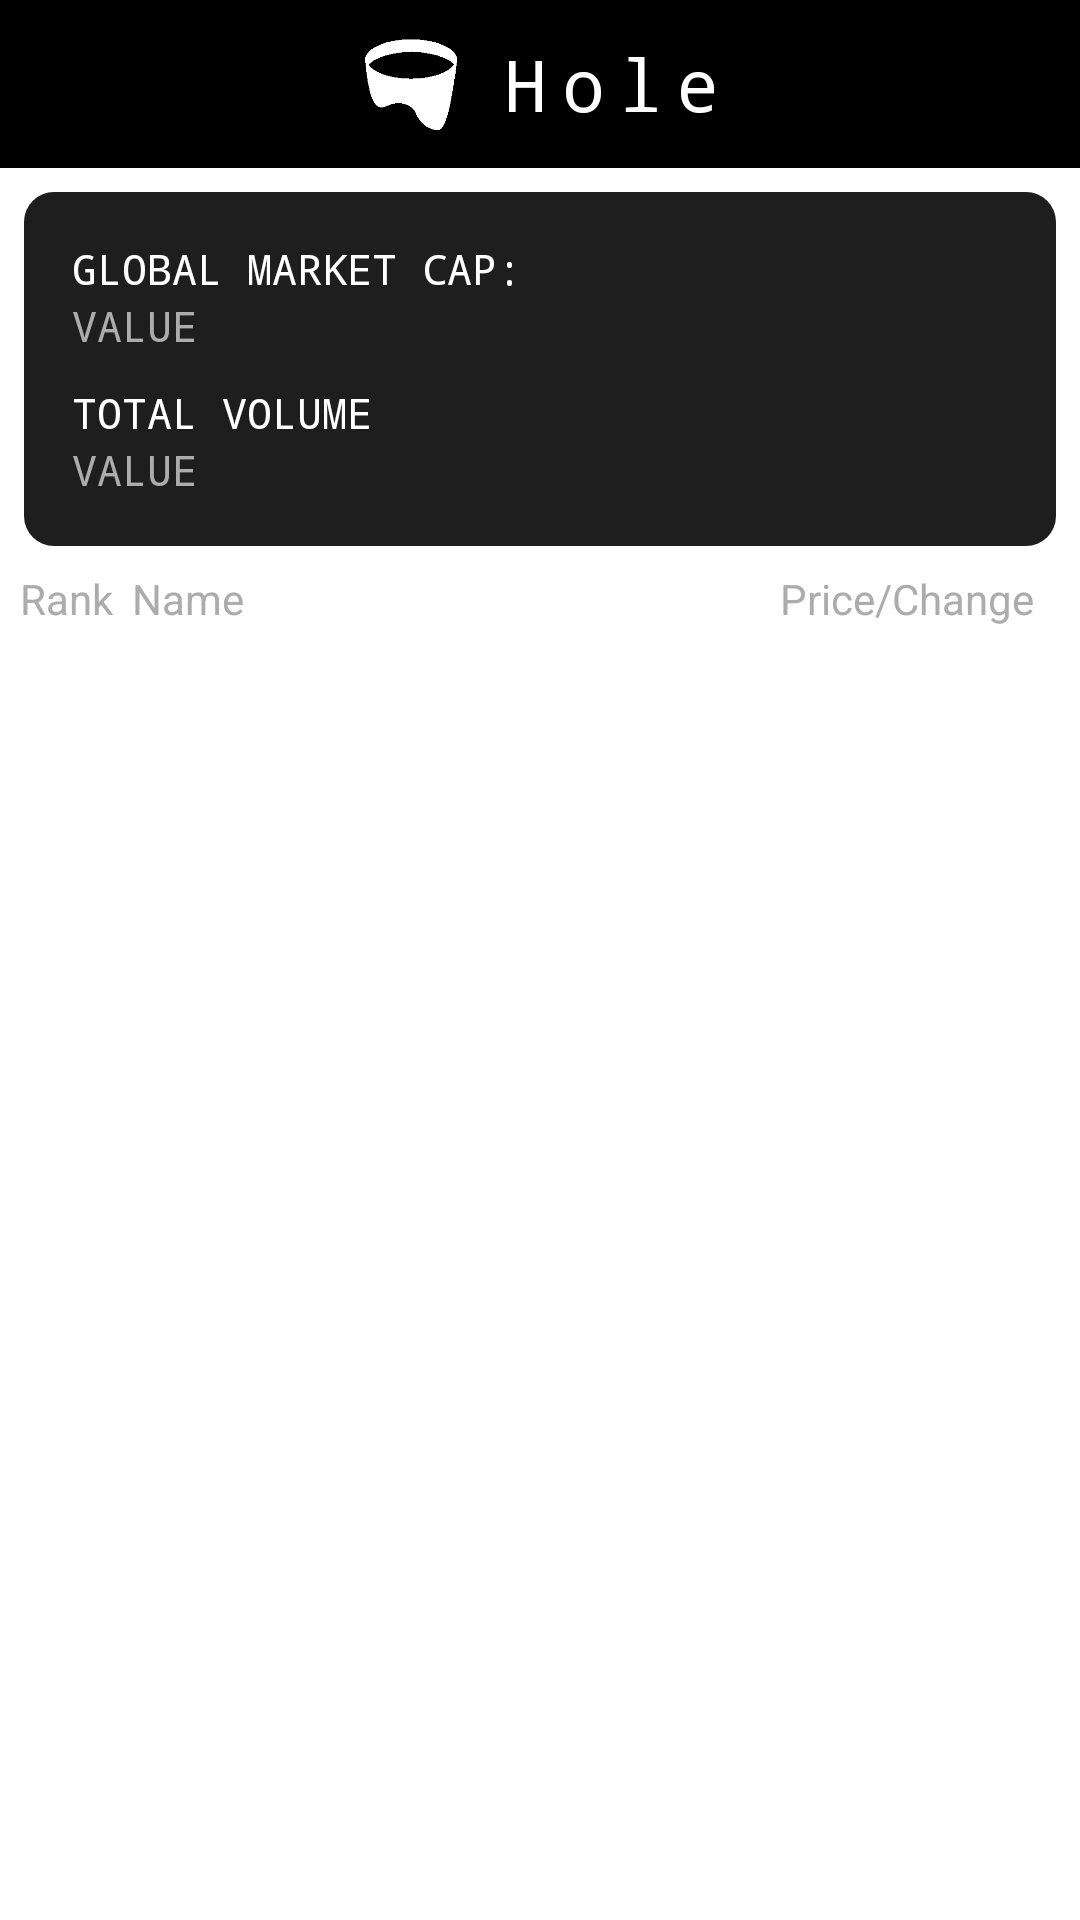

Icons on this 1080x1920 Android screen, each with the point to tap as point (x, y):
App Icon: point (411, 84)
